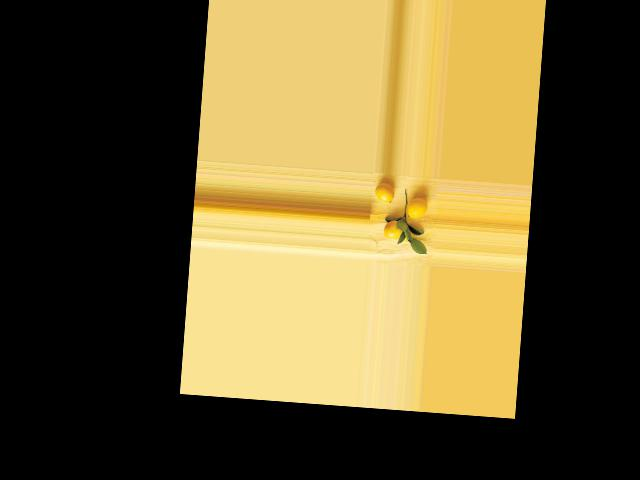lemon: (374, 179, 397, 205)
